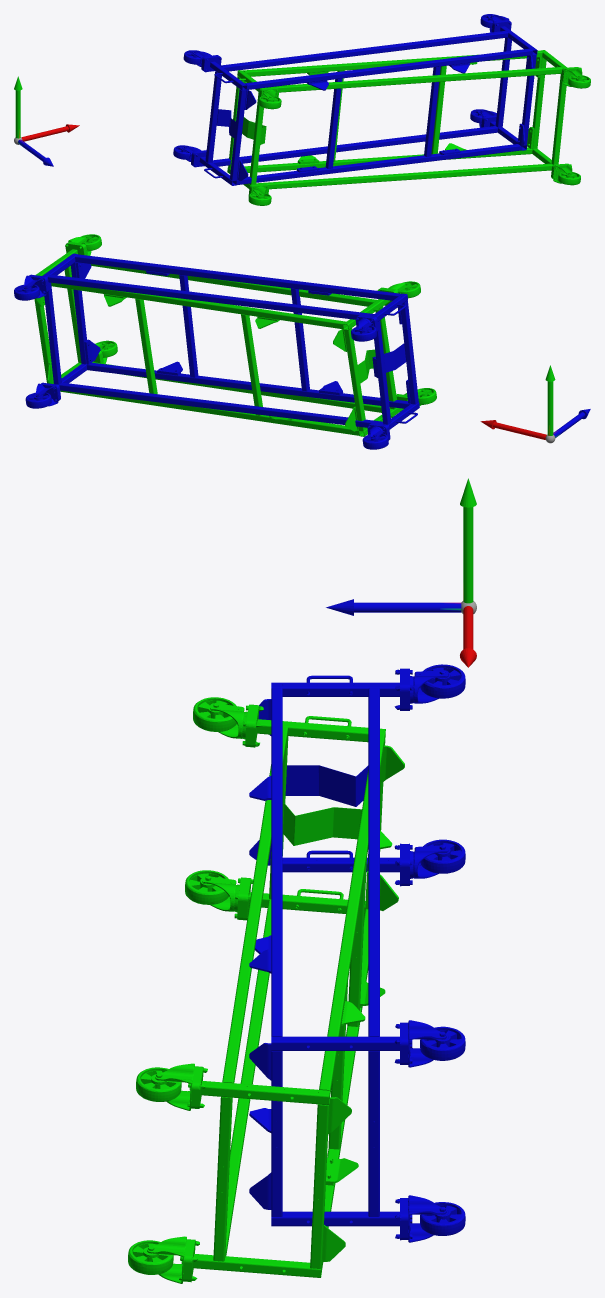
Rendered from combined_scene_sample_409.glb.
3 views of the same model, one above another, from view 1: azimuth 30°, elevation 25°; view 2: azimuth 150°, elevation 25°; view 3: azimuth 270°, elevation 25° (orthographic). The views are drawn at different scales.
Visible parts, largest first — view 1: gt, pred, frame; view 2: gt, pred, frame; view 3: pred, gt, frame.
Part boxes in pixels (<box>): gt: <box>173,14,537,185</box>; pred: <box>227,50,590,205</box>; frame: <box>14,76,79,166</box>; gt: <box>14,253,419,449</box>; pred: <box>34,234,436,436</box>; frame: <box>480,365,590,443</box>; pred: <box>128,697,404,1283</box>; gt: <box>249,664,465,1242</box>; frame: <box>326,478,476,667</box>.
Size of the model in its own units: 4.02 by 1.3 by 1.22.
